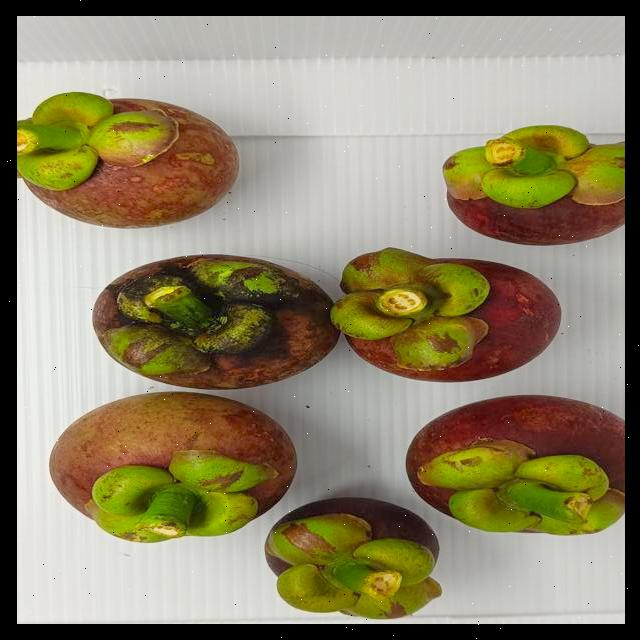mangosteen: (22, 392, 332, 560), (101, 220, 357, 403), (16, 83, 240, 266), (332, 246, 570, 403), (402, 382, 622, 534), (431, 99, 624, 260), (247, 488, 461, 618)
